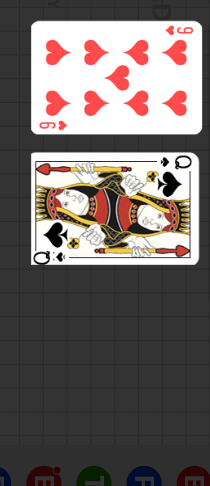9H: (164, 24, 195, 36)
